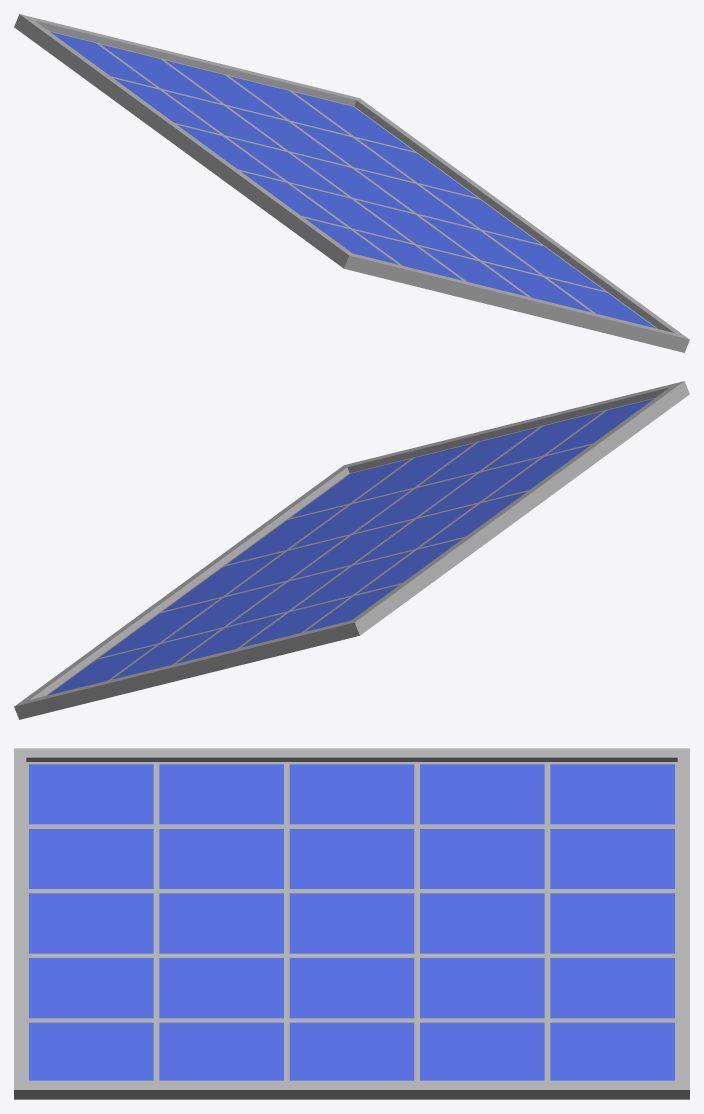
Rendered from SolarPanel.glb.
3 views of the same model, one above another, from view 1: azimuth 30°, elevation 25°; view 2: azimuth 150°, elevation 25°; view 3: azimuth 270°, elevation 25° (orthographic). The views are drawn at different scales.
Parts seen in each view (by area): view 1: SolarPanel; view 2: SolarPanel; view 3: SolarPanel.
Part boxes in pixels (<box>): SolarPanel: <box>14,14,689,352</box>; SolarPanel: <box>14,381,689,719</box>; SolarPanel: <box>14,748,689,1099</box>.
Bounding box in the file's own units: 7.27 × 3.6 × 12.
